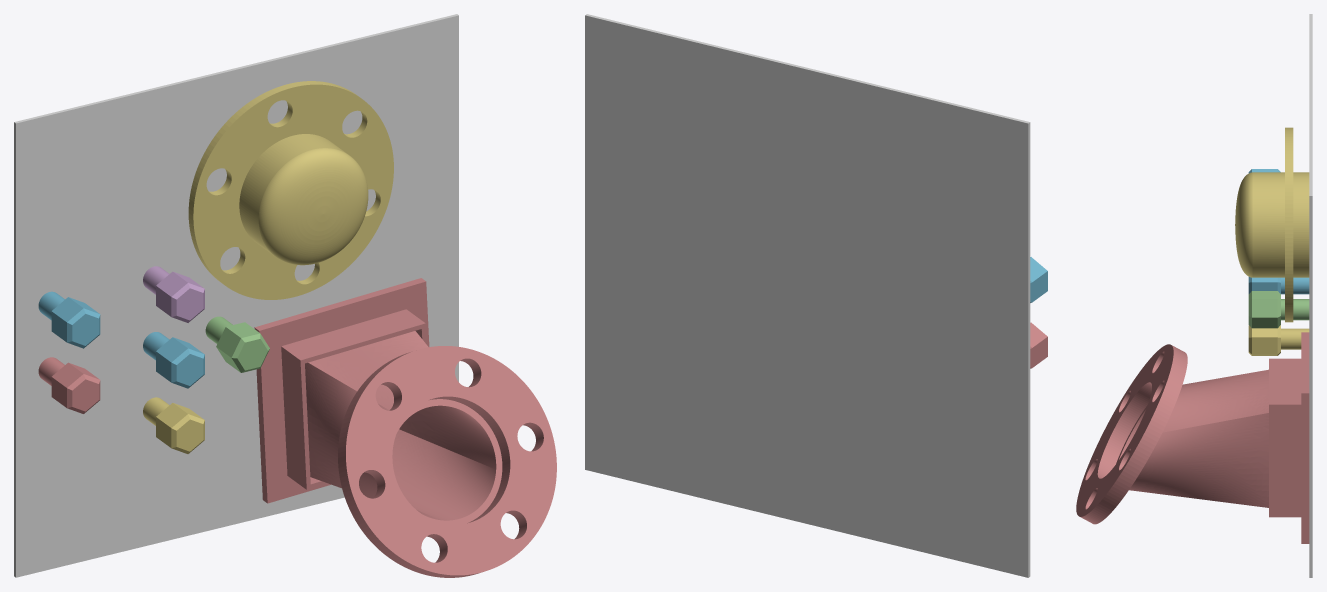
Rendered from pickup_layout.glb.
The picture shows the model from 3 angles, left to right: view 1: azimuth 30°, elevation 25°; view 2: azimuth 150°, elevation 25°; view 3: azimuth 270°, elevation 25°; orthographic projection. The views are drawn at different scales.
Parts seen in each view (by area): view 1: world, 0.obj, 1.obj, 4.obj, 2.obj, 5.obj, 6.obj, 3.obj, 7.obj; view 2: world, 5.obj, 2.obj; view 3: 0.obj, 1.obj, world, 4.obj, 6.obj, 7.obj.
Boxes of the visible parts, x1,y1,x2,y2 form: world: [14, 14, 458, 577]; 0.obj: [254, 278, 556, 577]; 1.obj: [188, 81, 393, 299]; 4.obj: [205, 316, 269, 372]; 2.obj: [38, 291, 100, 348]; 5.obj: [38, 357, 100, 413]; 6.obj: [143, 397, 204, 453]; 3.obj: [143, 266, 204, 322]; 7.obj: [143, 332, 204, 388]; world: [585, 14, 1030, 577]; 5.obj: [1030, 322, 1047, 368]; 2.obj: [1030, 257, 1047, 302]; 0.obj: [1076, 332, 1309, 543]; 1.obj: [1235, 127, 1309, 322]; world: [1309, 14, 1312, 577]; 4.obj: [1248, 291, 1309, 328]; 6.obj: [1248, 325, 1309, 355]; 7.obj: [1248, 277, 1309, 294].
Bounding box in the file's own units: 26.51 × 25.97 × 14.57.
